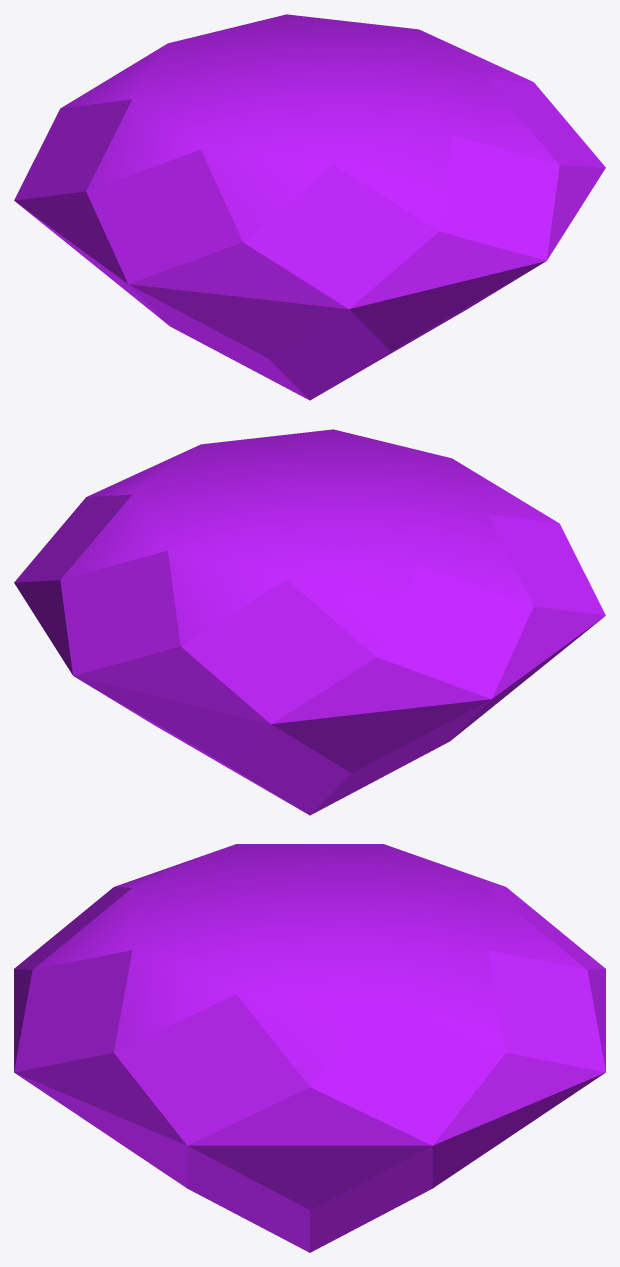
File: Diamond2.fbx
The picture shows the model from 3 angles, top to bottom: view 1: azimuth 30°, elevation 25°; view 2: azimuth 150°, elevation 25°; view 3: azimuth 270°, elevation 25°; orthographic projection. The views are drawn at different scales.
Parts seen in each view (by area): view 1: Gem.001; view 2: Gem.001; view 3: Gem.001.
Boxes of the visible parts, left/top/right/bottom form: Gem.001: left=14, top=14, right=605, bottom=400; Gem.001: left=14, top=429, right=605, bottom=815; Gem.001: left=14, top=844, right=605, bottom=1252.
Size of the model in its own units: 185 by 115 by 185.
